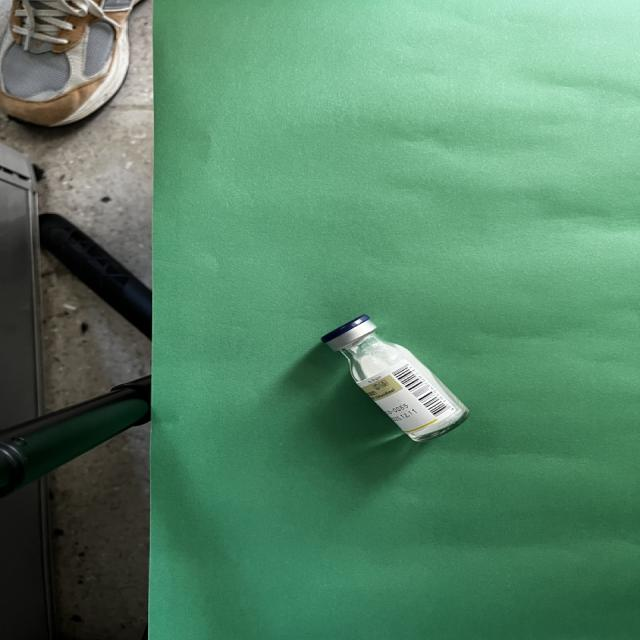Vials: (321, 315, 468, 442)
